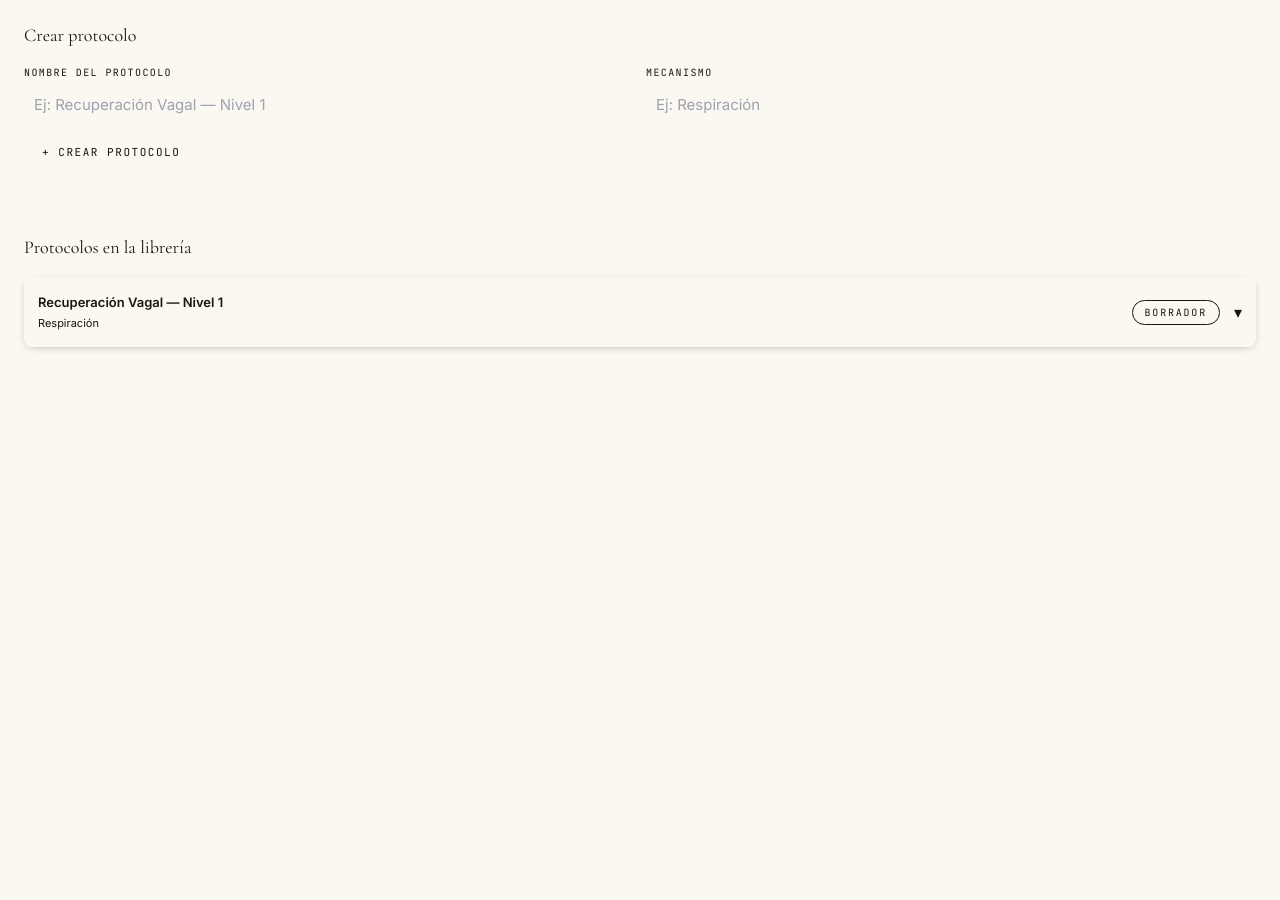
Scenario: AdminStressProtocolsPanel › edits the protocol name and mechanism from "Datos del protocolo"
Click the button "Recuperación Vagal — Nivel 1 Respiración Borrador ▾" at [131, 302], box x1=38 y1=281 x2=1242 y2=343
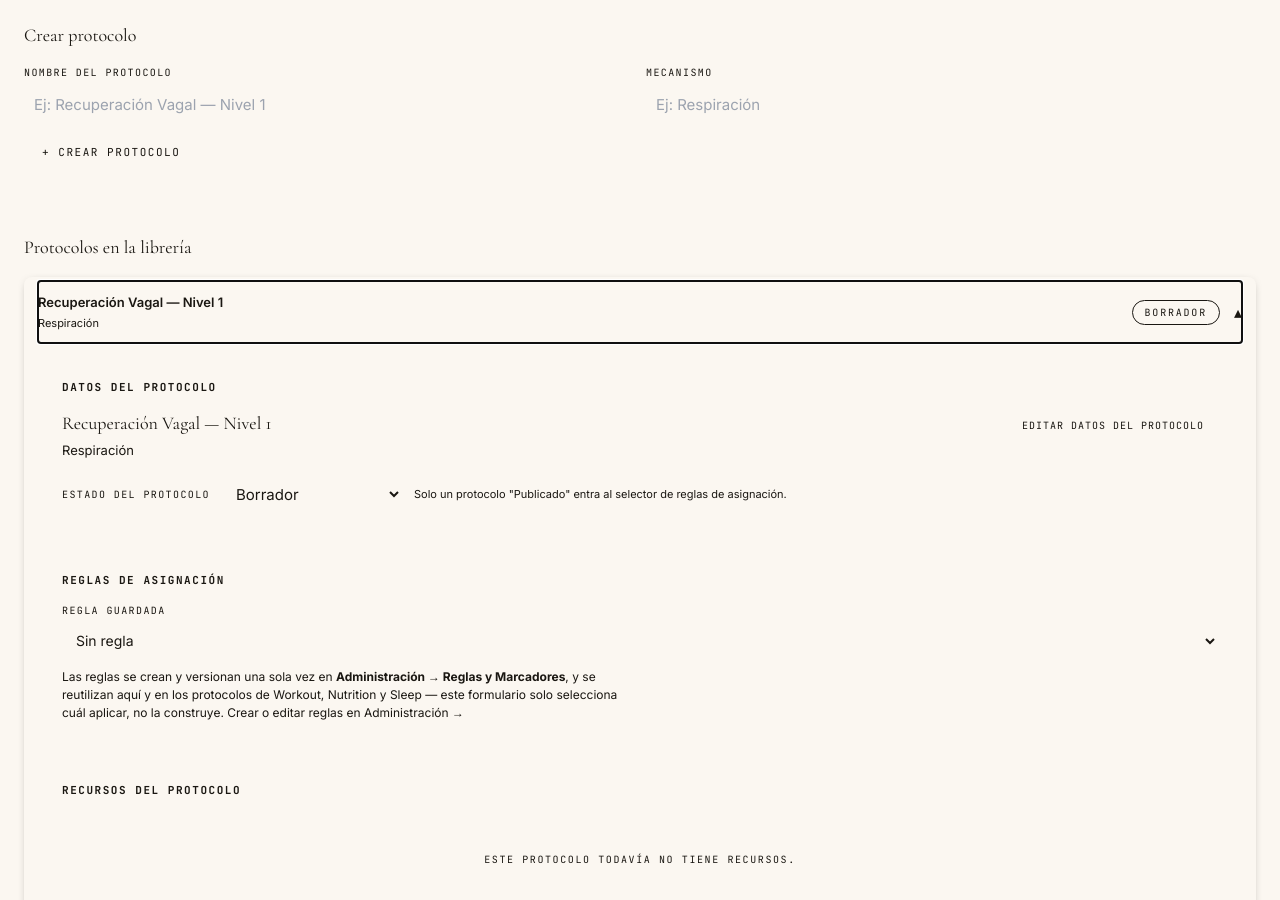
Click the button "Editar datos del protocolo" at [1113, 426], box x1=1008 y1=410 x2=1218 y2=442
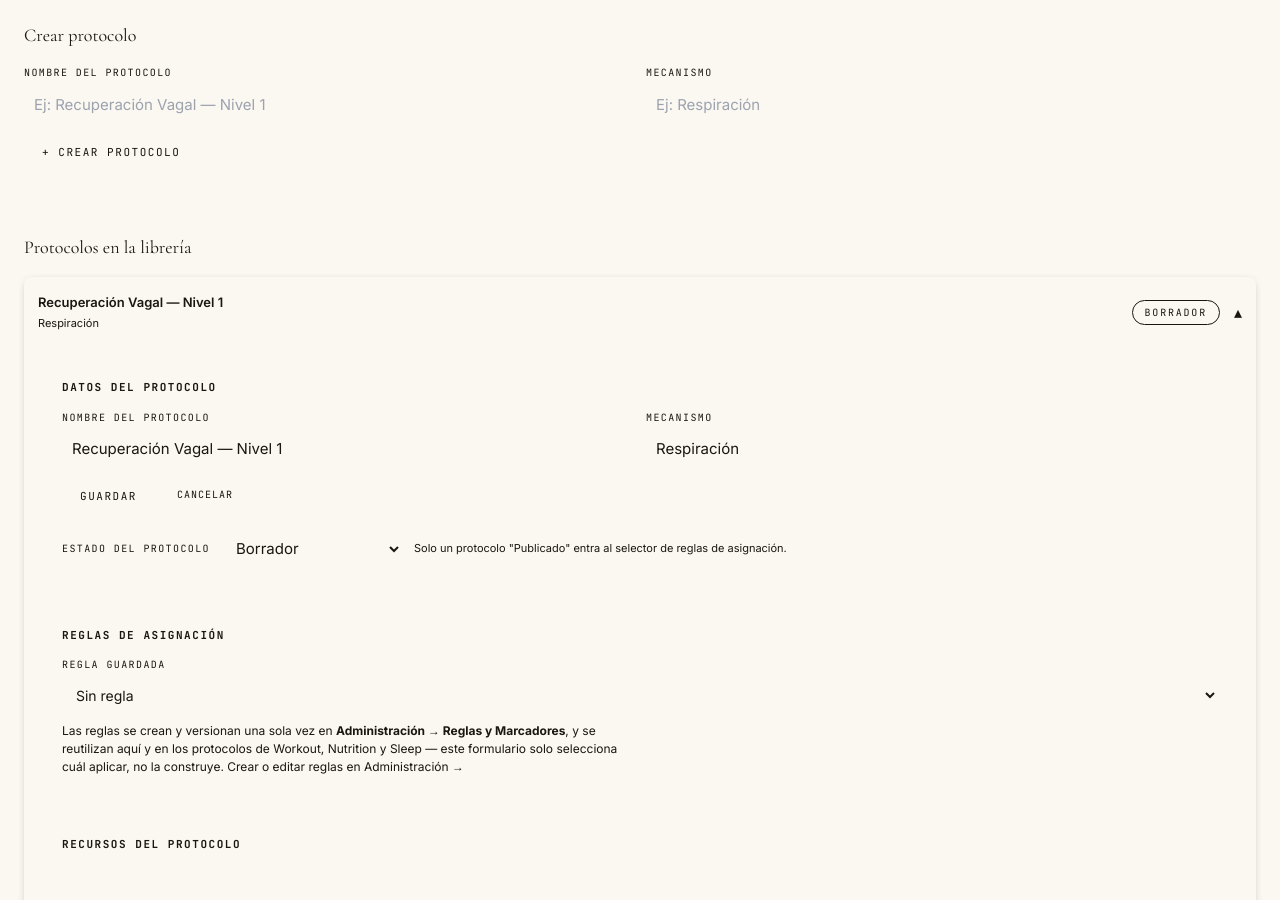
Replace the text in the field showing "Recuperación Vagal — Nivel 1" below "Datos del protocolo" with "Recuperación Vagal — Nivel 2" at [348, 448], box x1=62 y1=430 x2=634 y2=466
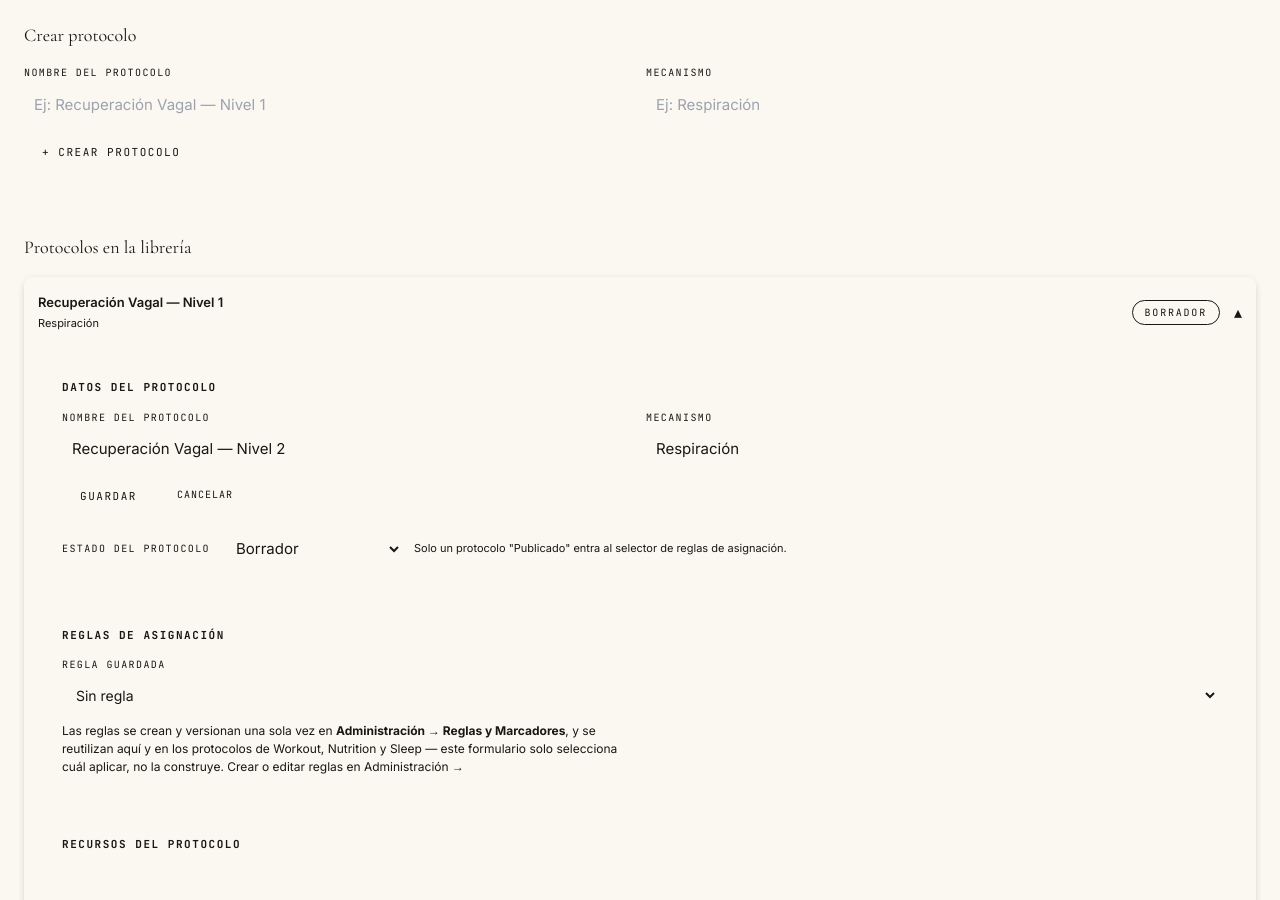
Replace the text in the 2nd field showing "Respiración" with "Respiración vagal" at [932, 448], box x1=646 y1=430 x2=1218 y2=466
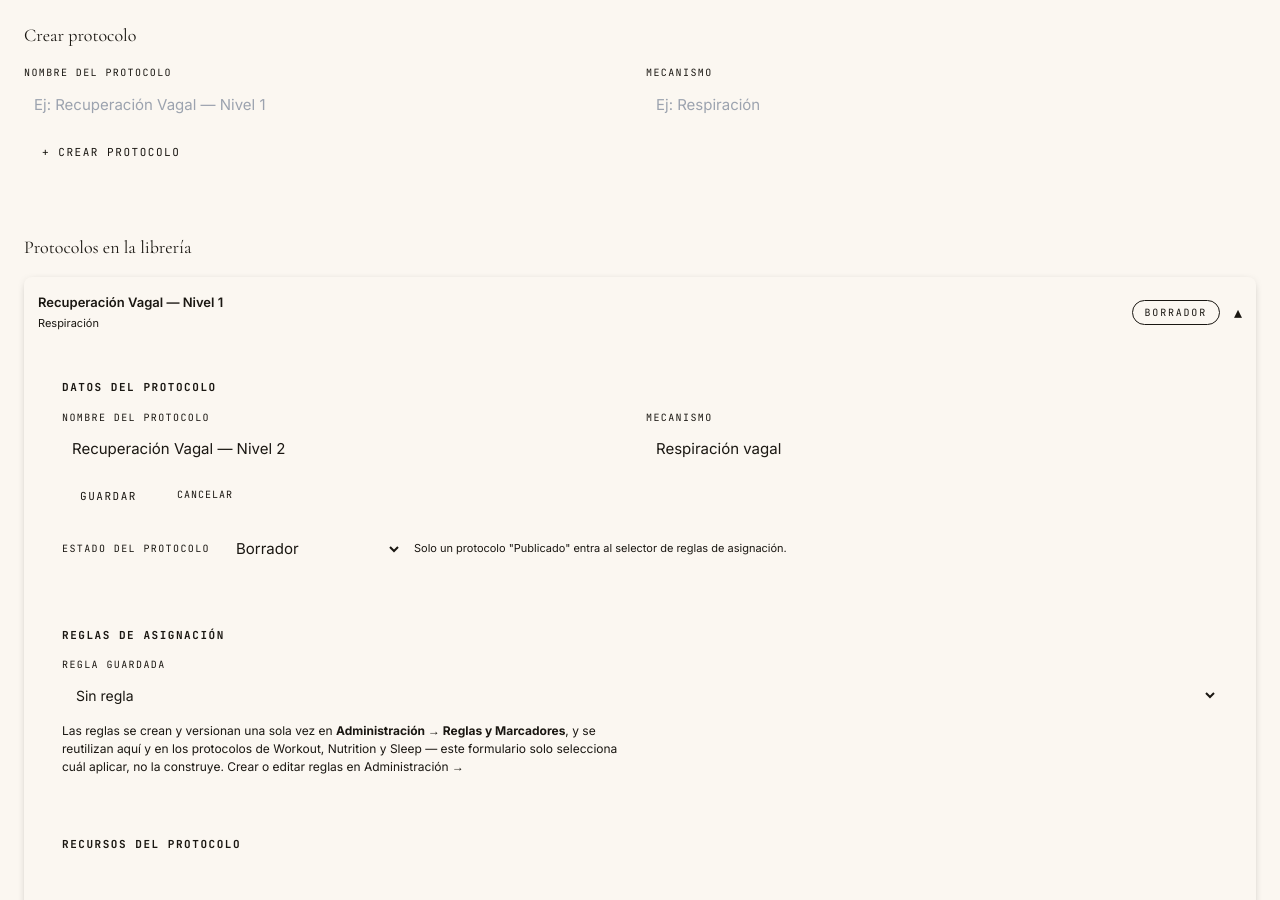
Click the button "Guardar" at [108, 496], box x1=62 y1=478 x2=155 y2=514
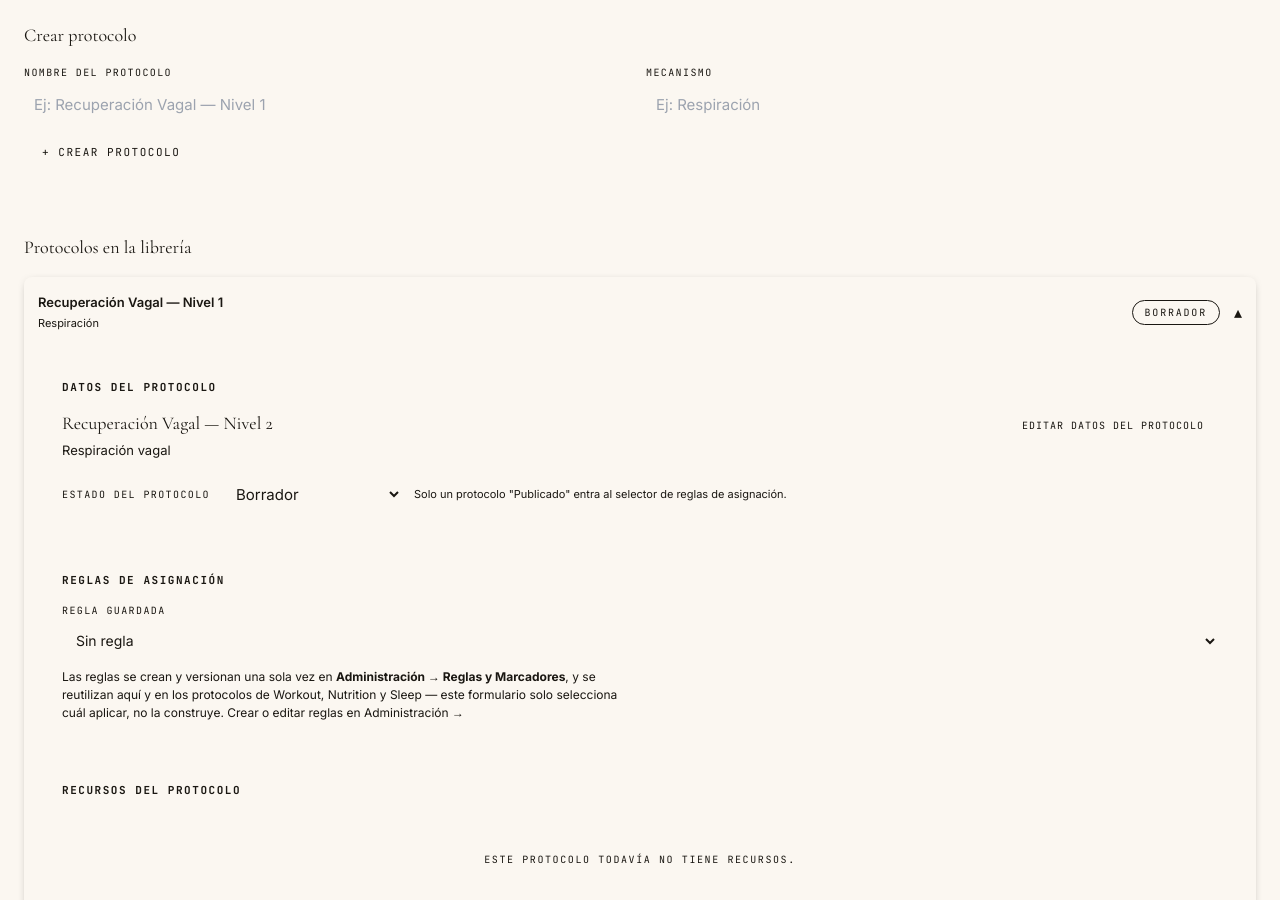
Result: the heading "Recuperación Vagal — Nivel 2" is shown at x1=62 y1=410 x2=273 y2=436
